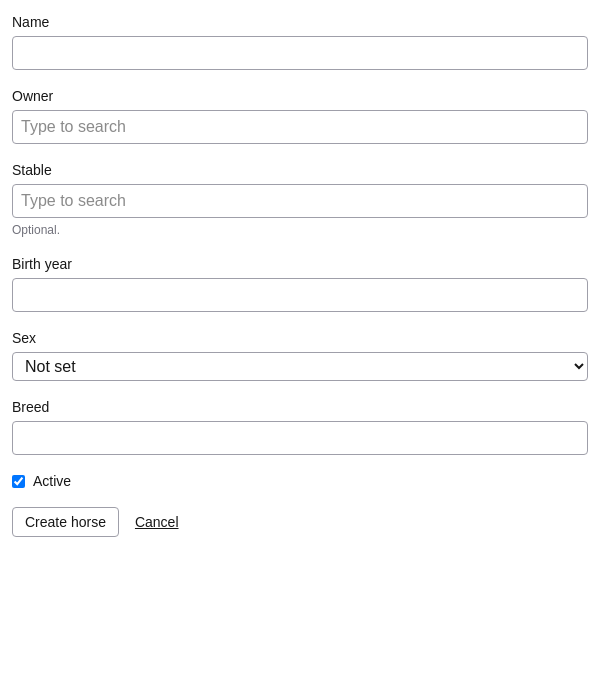
Test: the other fields are the backend's to judge › maps every 422 to its control, the owner and the stable included, and keeps the draft
Click the dropdown labelled "Owner". click: (300, 127)
box: [12, 110, 588, 144]
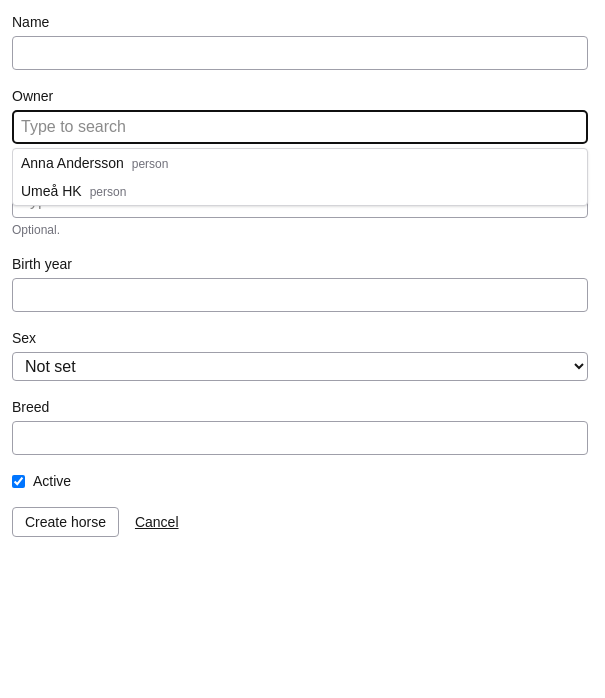
Click the 1st option. click: (95, 163)
box: [21, 155, 168, 171]
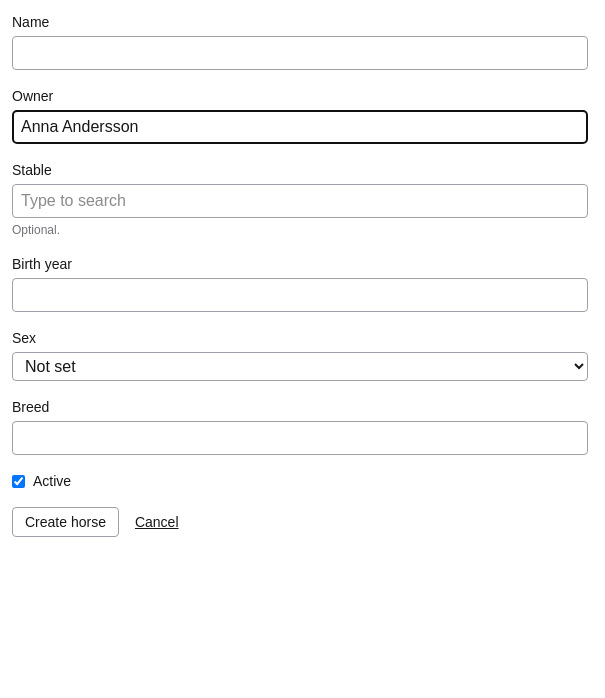
Click the dropdown labelled "Stable". click: (300, 201)
box: [12, 184, 588, 218]
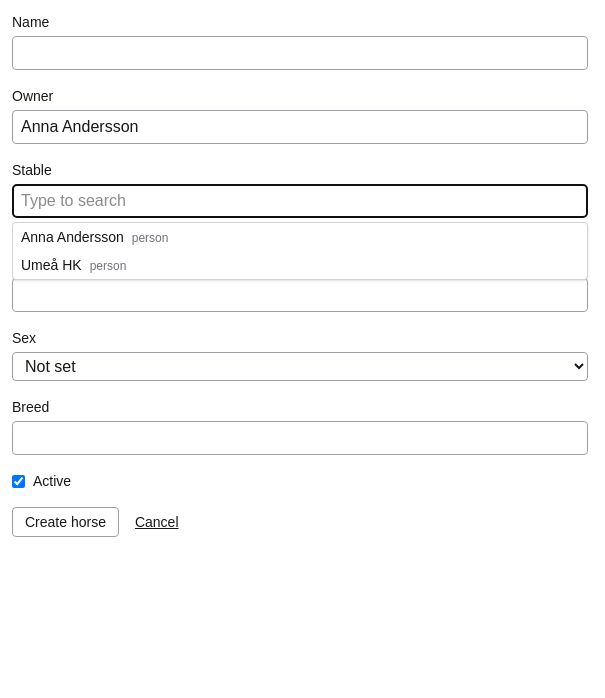
Click the 2nd option. click: (74, 265)
box: [21, 257, 126, 273]
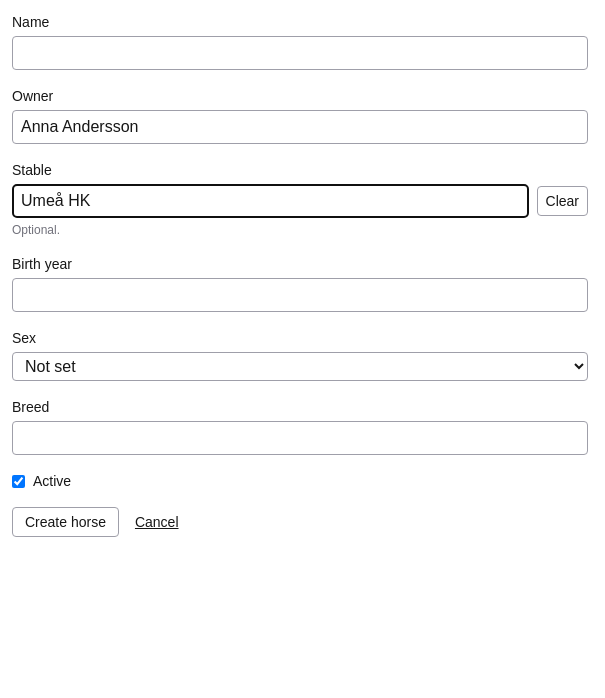
Type "1850" into the field labelled "Birth year". click: (300, 295)
box: [12, 278, 588, 312]
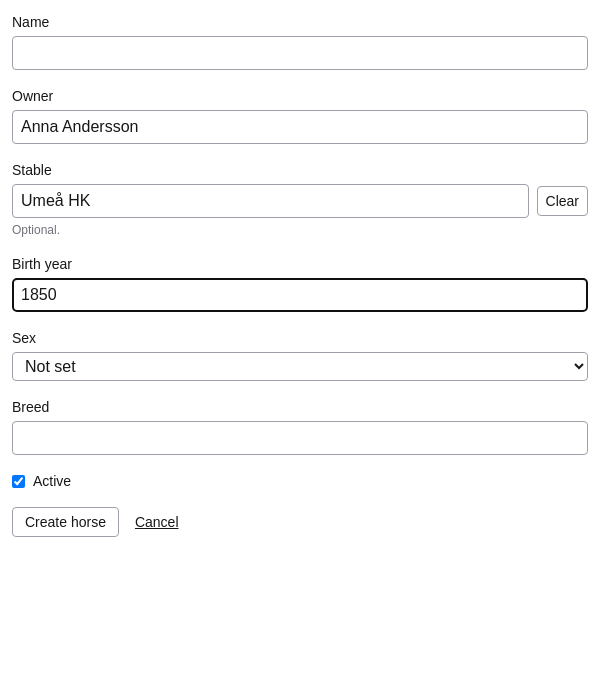
Click the button "Create horse". click: (65, 522)
box: [12, 507, 119, 537]
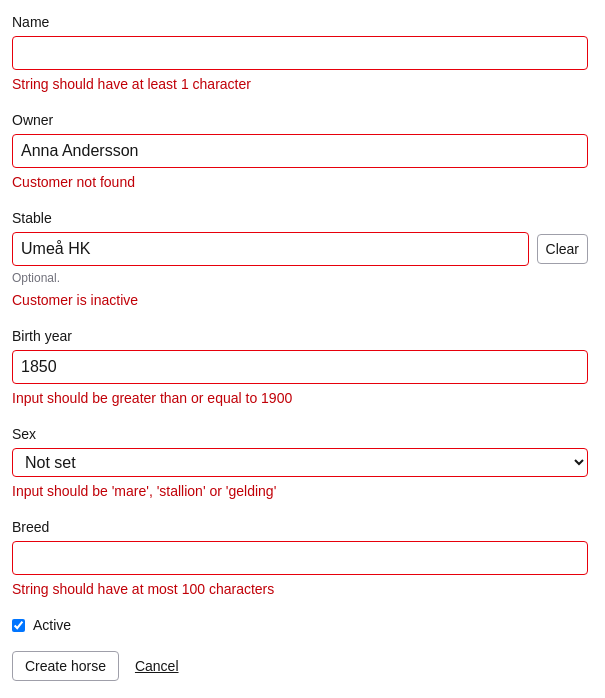
Now the text with test id "error-name" shows "at least 1 character", box [12, 76, 251, 92]
Now the text with test id "error-owner_customer_id" reads "Customer not found", box [12, 174, 135, 190]
Now the text with test id "error-stable_customer_id" reads "Customer is inactive", box [12, 292, 138, 308]
